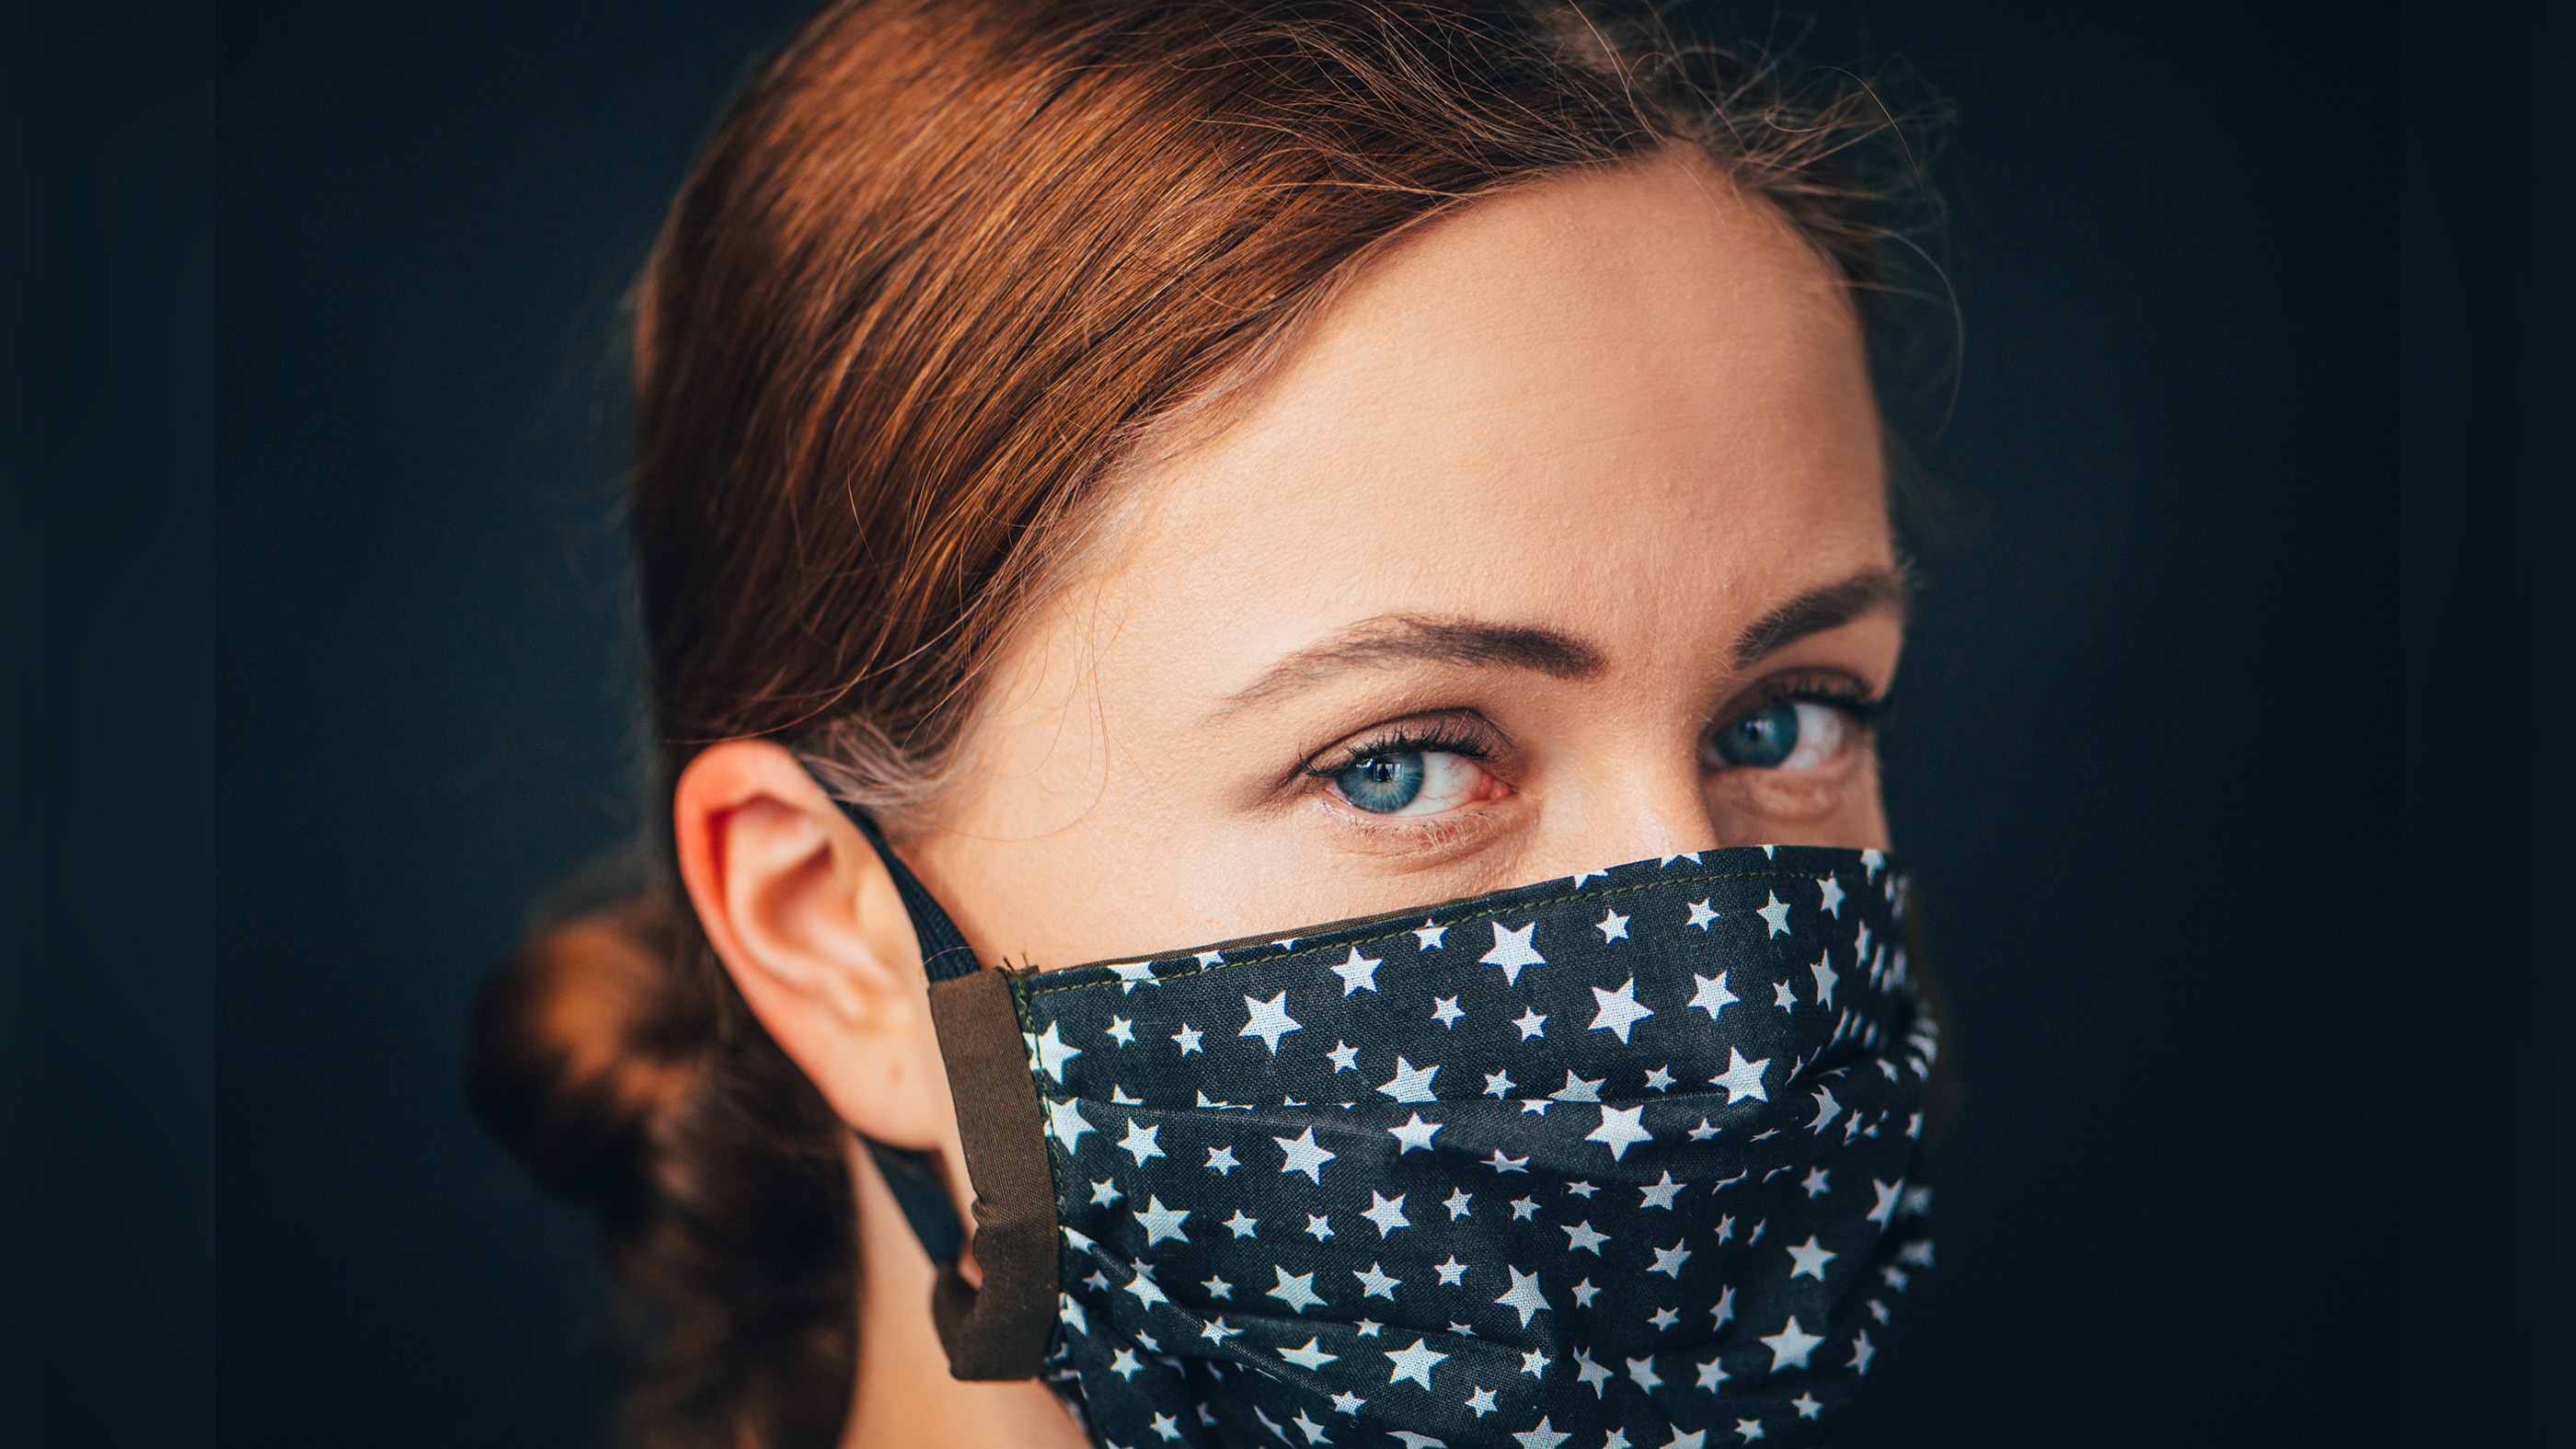with_mask: (654, 57, 1964, 1449)
